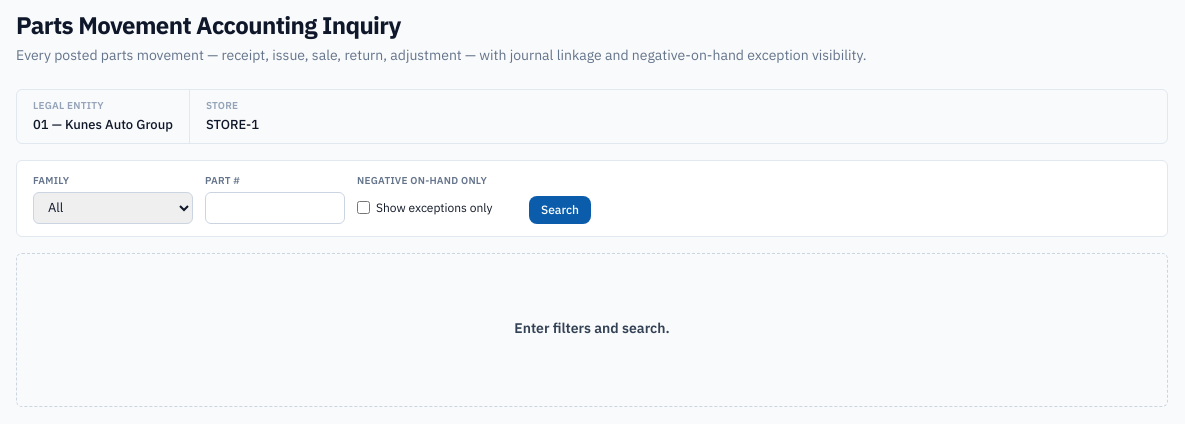
PartsMovements › renders a loud negative-on-hand badge when negativeOnHandFlag is true
Click the button with test id "parts-movements-search". click: (560, 210)
box: x1=529 y1=196 x2=591 y2=224
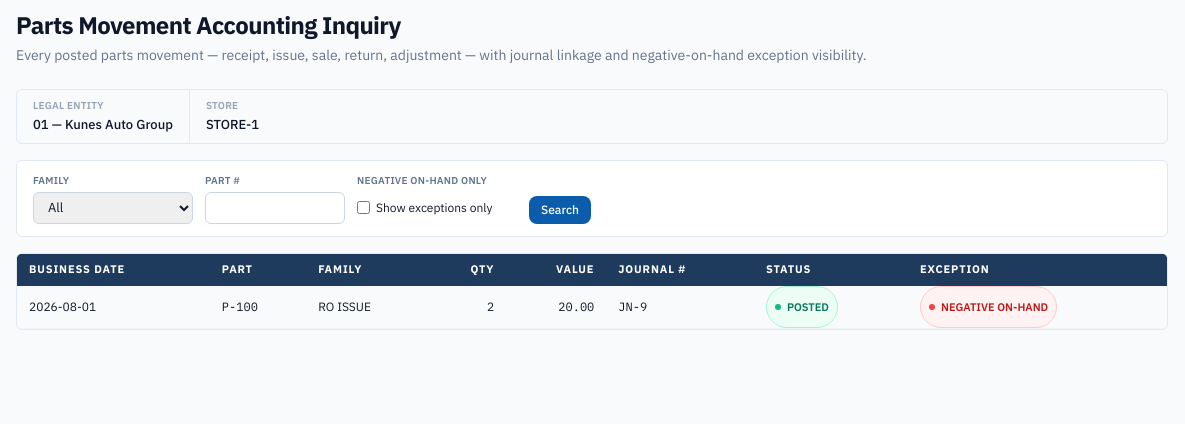
expect the element with test id "parts-movement-negative-badge-mv-1" reads "NEGATIVE ON-HAND": met, box x1=941 y1=300 x2=1048 y2=314
